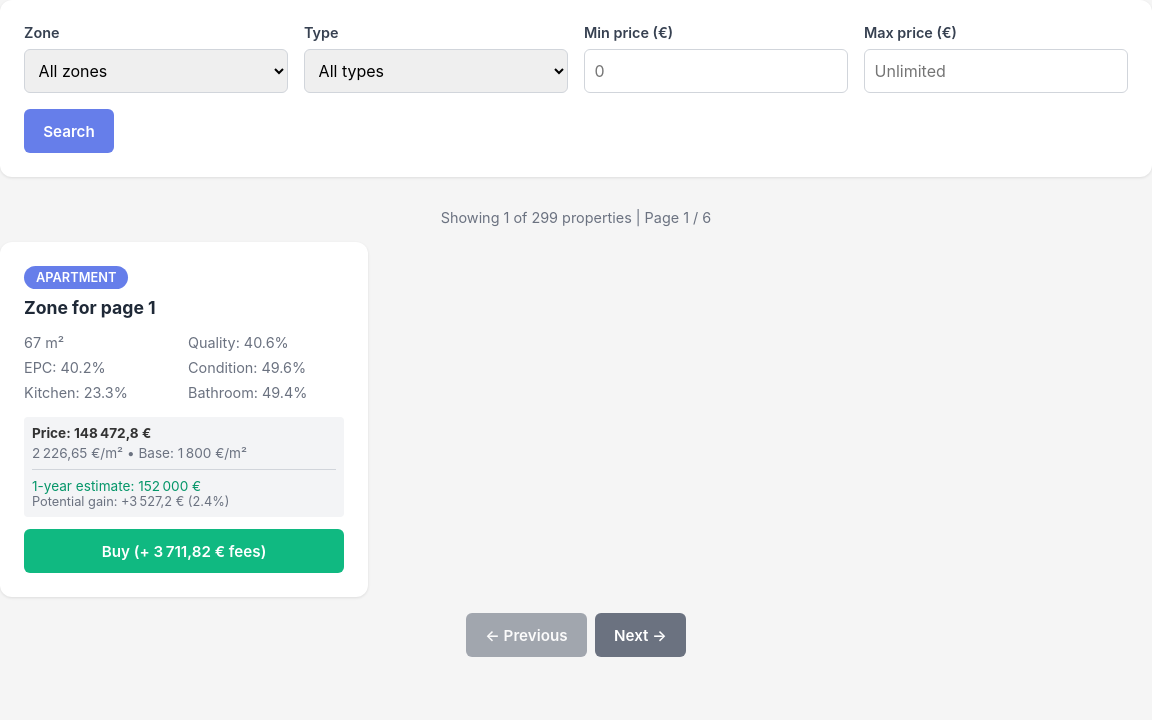
Scenario: paging through the market › walks back with Previous
Expected: the text "Zone for page 1" is shown, [24,297,156,318]
Step 1. Click the button "Next →" → (640,635), box [595,613,686,657]
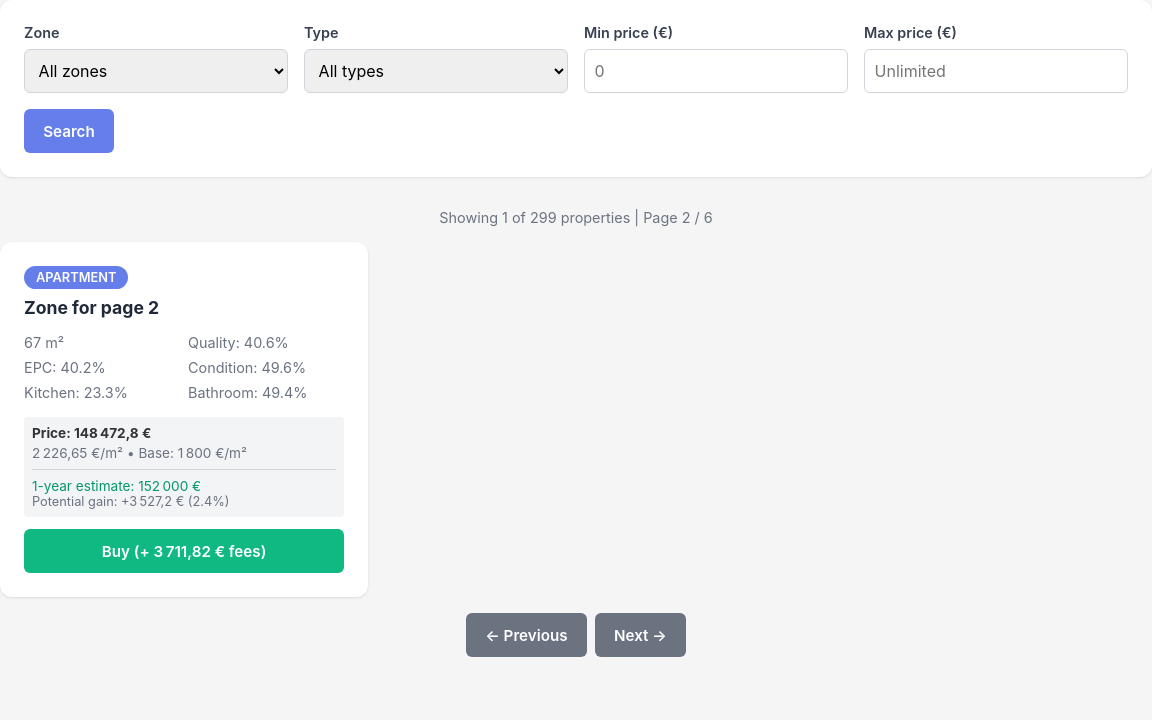
Expected: the text "Zone for page 2" is shown, [24,297,159,318]
Step 2. Click the button "← Previous" → (526,635), box [466,613,587,657]
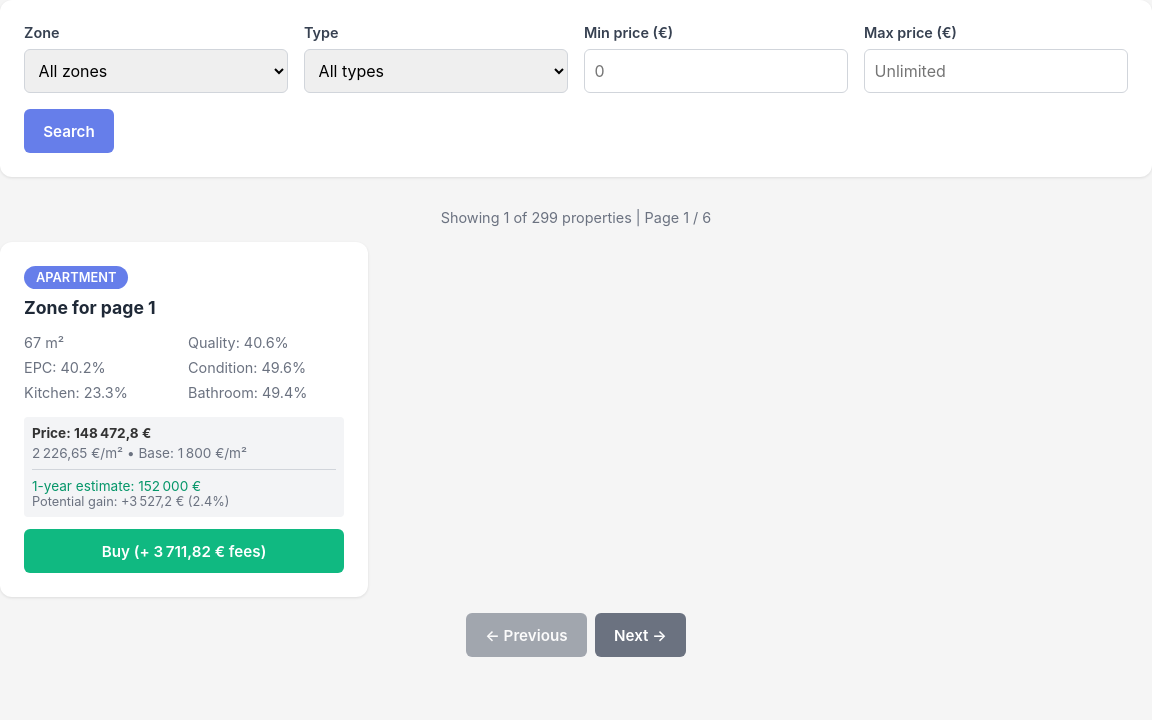
Expected: the text "Zone for page 1" is shown, [24,297,156,318]
